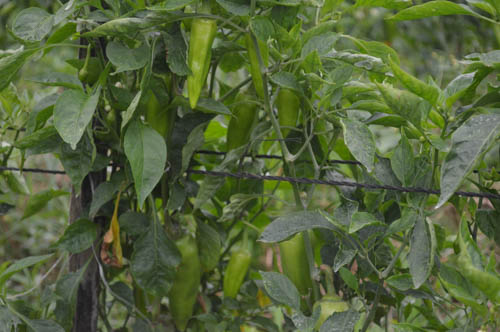ChiliPepper: (168, 239, 200, 329), (276, 236, 315, 307), (184, 19, 211, 105), (227, 97, 252, 151), (222, 253, 249, 296)
